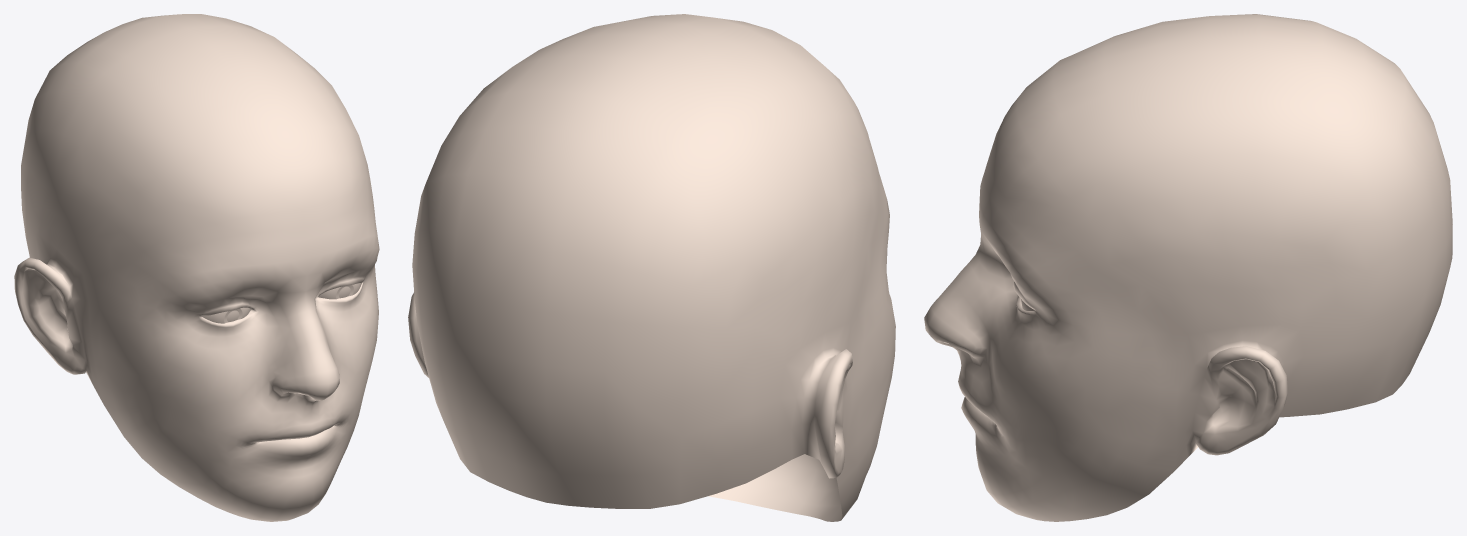
Rendered from sample-avatar.glb.
3 views of the same model, side by side, from view 1: azimuth 30°, elevation 25°; view 2: azimuth 150°, elevation 25°; view 3: azimuth 270°, elevation 25° (orthographic). The views are drawn at different scales.
Visible parts, largest first — view 1: head, eyeLeft; view 2: head; view 3: head.
Boxes of the visible parts, x1=… form: head: x1=14, y1=14, x2=379, y2=521; eyeLeft: x1=201, y1=307, x2=250, y2=323; head: x1=408, y1=14, x2=895, y2=521; head: x1=924, y1=14, x2=1452, y2=521.
Size of the model in its own units: 1.9 by 2.34 by 2.36.
